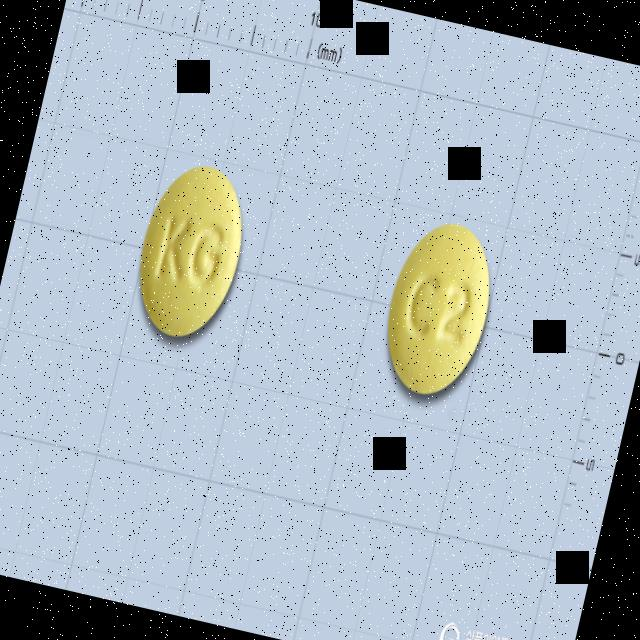Globit: (369, 210, 506, 410), (123, 154, 260, 348)
